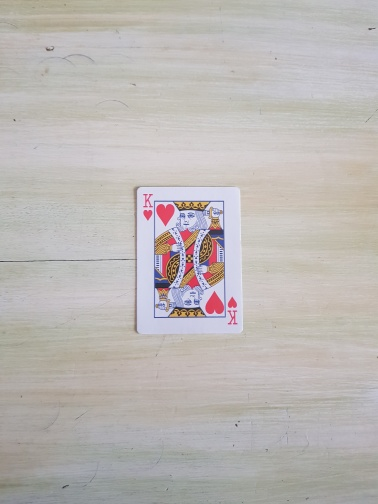king: (135, 185, 243, 336)
